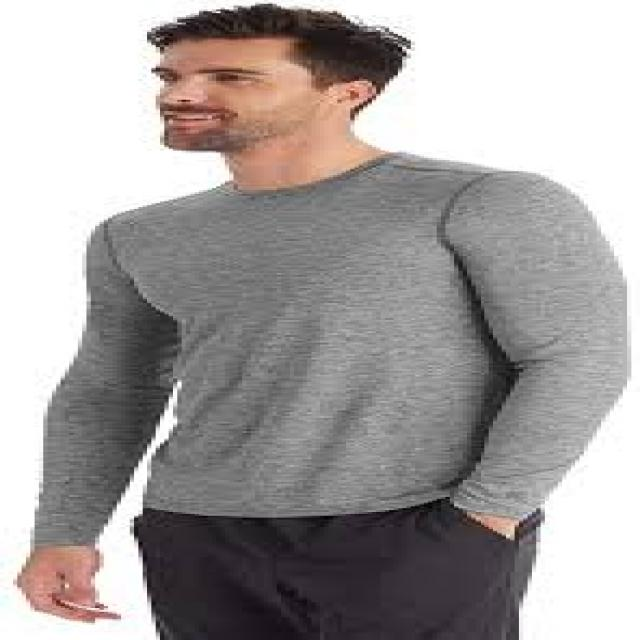plain: (8, 162, 640, 516)
